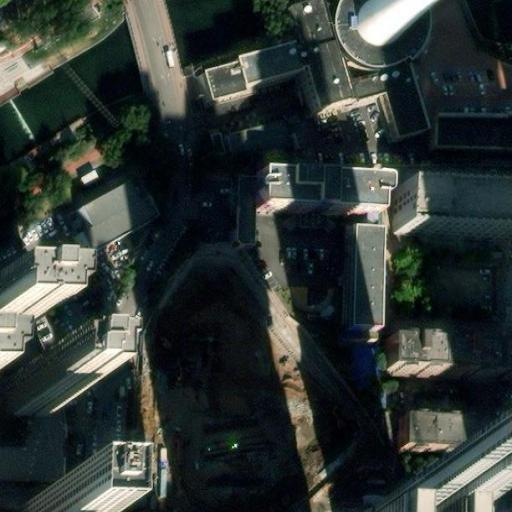building: (195, 4, 423, 145), (65, 174, 158, 251), (324, 0, 421, 73), (267, 160, 395, 206), (402, 348, 512, 388), (349, 222, 383, 335), (409, 210, 512, 246), (410, 409, 512, 445), (436, 112, 512, 148), (231, 179, 257, 246), (16, 378, 64, 413), (383, 495, 457, 512), (25, 504, 63, 512)
